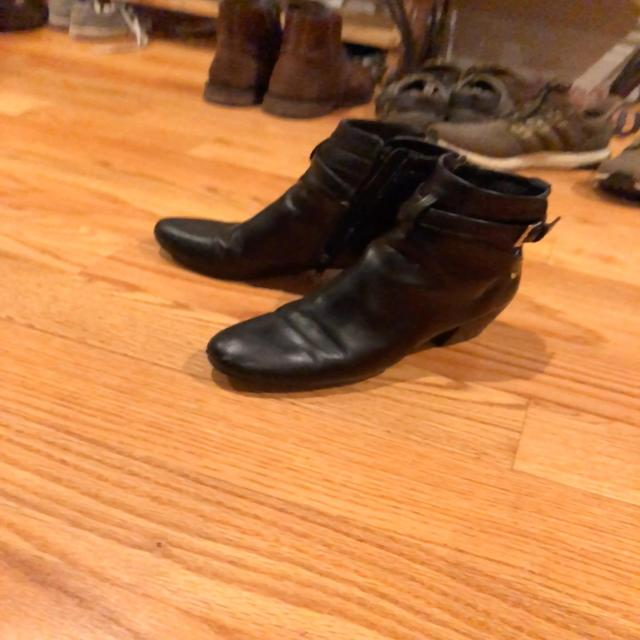shoe: (210, 172, 541, 390)
